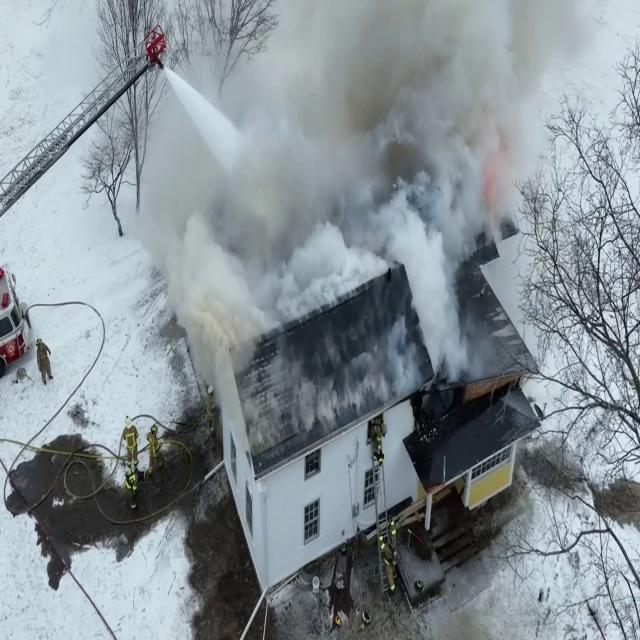Smoke: (146, 0, 557, 378)
